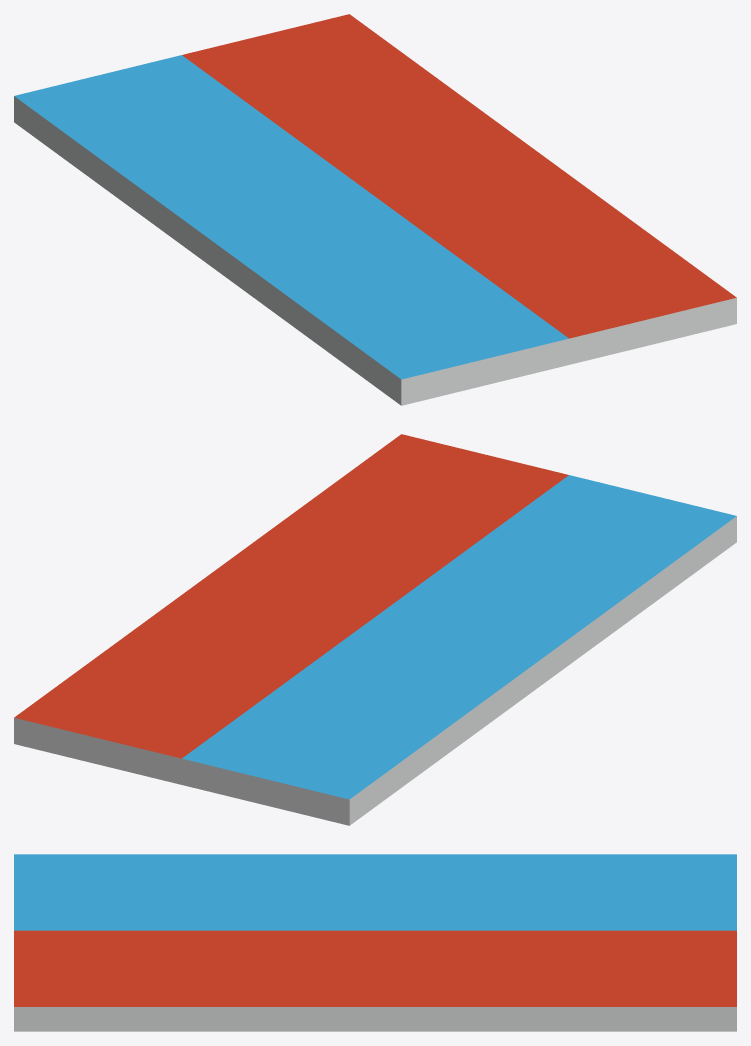
The model's file is dem duong.fbx.
3 renders of one model, top to bottom at view 1: azimuth 30°, elevation 25°; view 2: azimuth 150°, elevation 25°; view 3: azimuth 270°, elevation 25°, orthographic. The views are drawn at different scales.
Visible parts, largest first — view 1: dem_duong; view 2: dem_duong; view 3: dem_duong.
Part boxes in pixels (x1,y1,x2,y2): dem_duong: (14, 14, 736, 405); dem_duong: (14, 434, 736, 825); dem_duong: (14, 854, 736, 1031).
Size of the model in its own units: 20 by 1.5 by 40.
1 material, 1 textured.
